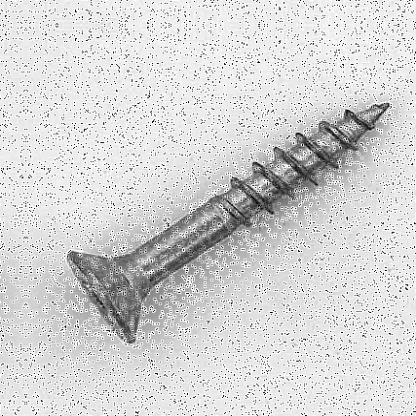metal: (66, 100, 389, 344)
